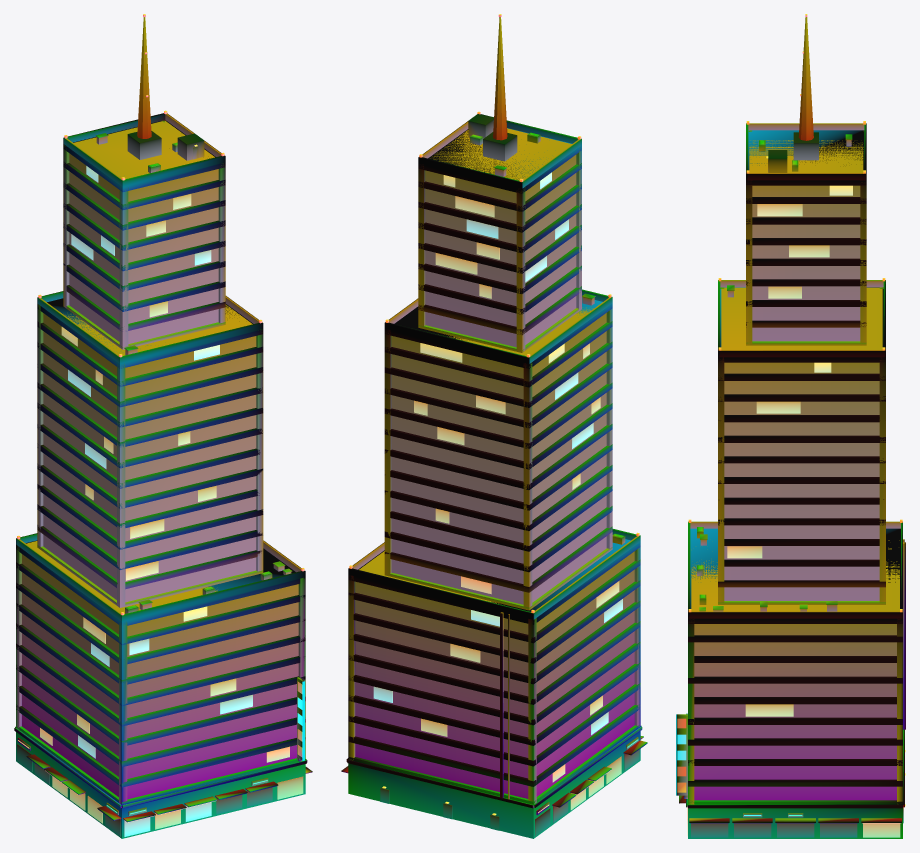
File: Tower_Spire.fbx
The picture shows the model from 3 angles, left to right: view 1: azimuth 30°, elevation 25°; view 2: azimuth 150°, elevation 25°; view 3: azimuth 270°, elevation 25°; orthographic projection.
Parts seen in each view (by area): view 1: Tower_Spire_LOD0; view 2: Tower_Spire_LOD0; view 3: Tower_Spire_LOD0.
Boxes of the visible parts, <box> form: Tower_Spire_LOD0: <box>14,14,312,838</box>; Tower_Spire_LOD0: <box>341,14,647,838</box>; Tower_Spire_LOD0: <box>676,14,905,838</box>.
Size of what is drawn, in the model's own units: 36.8 by 135 by 36.31.
